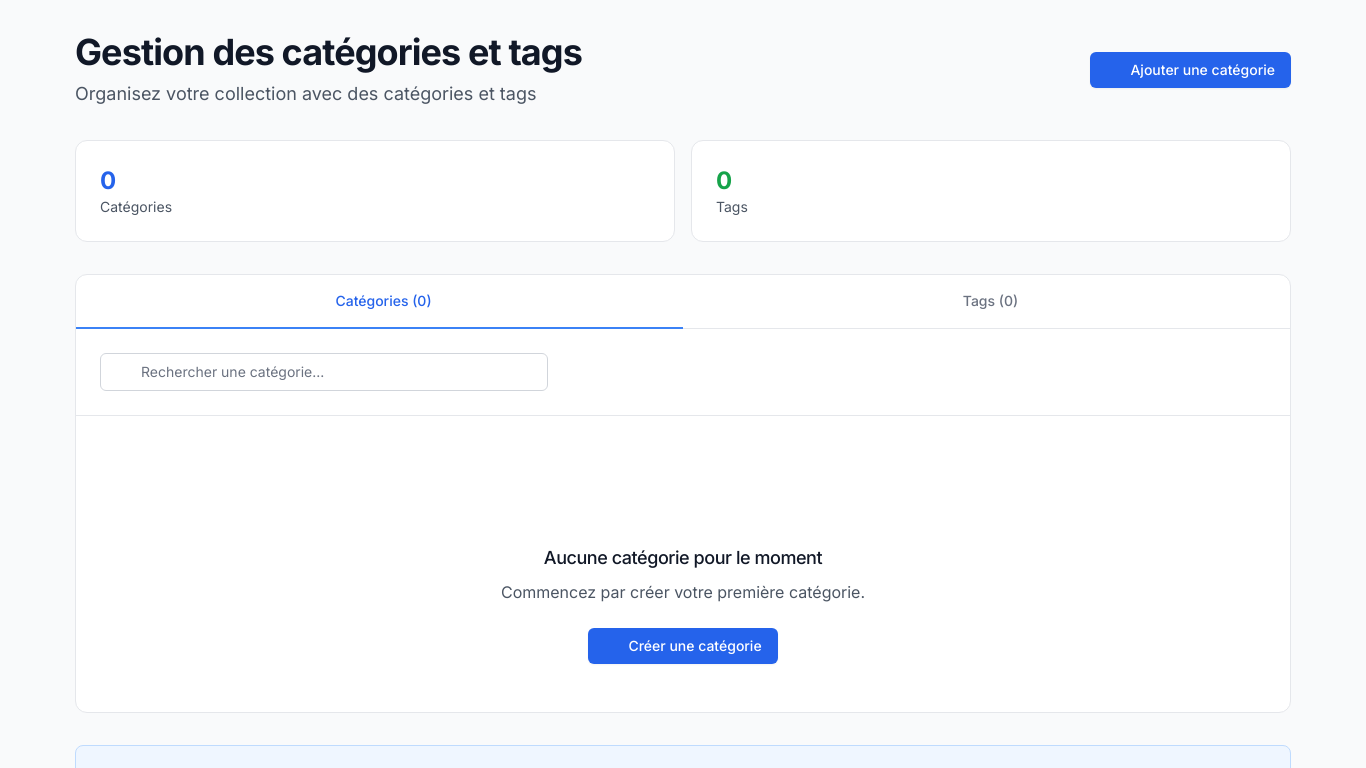
it: AdminCategoriesPage › États de chargement et erreurs › affiche le message d'absence d'éléments dans l'onglet tags
The image size is (1366, 768).
Click the button with test id "tags-tab".
click(986, 302)  # box 683,275 -> 1290,329
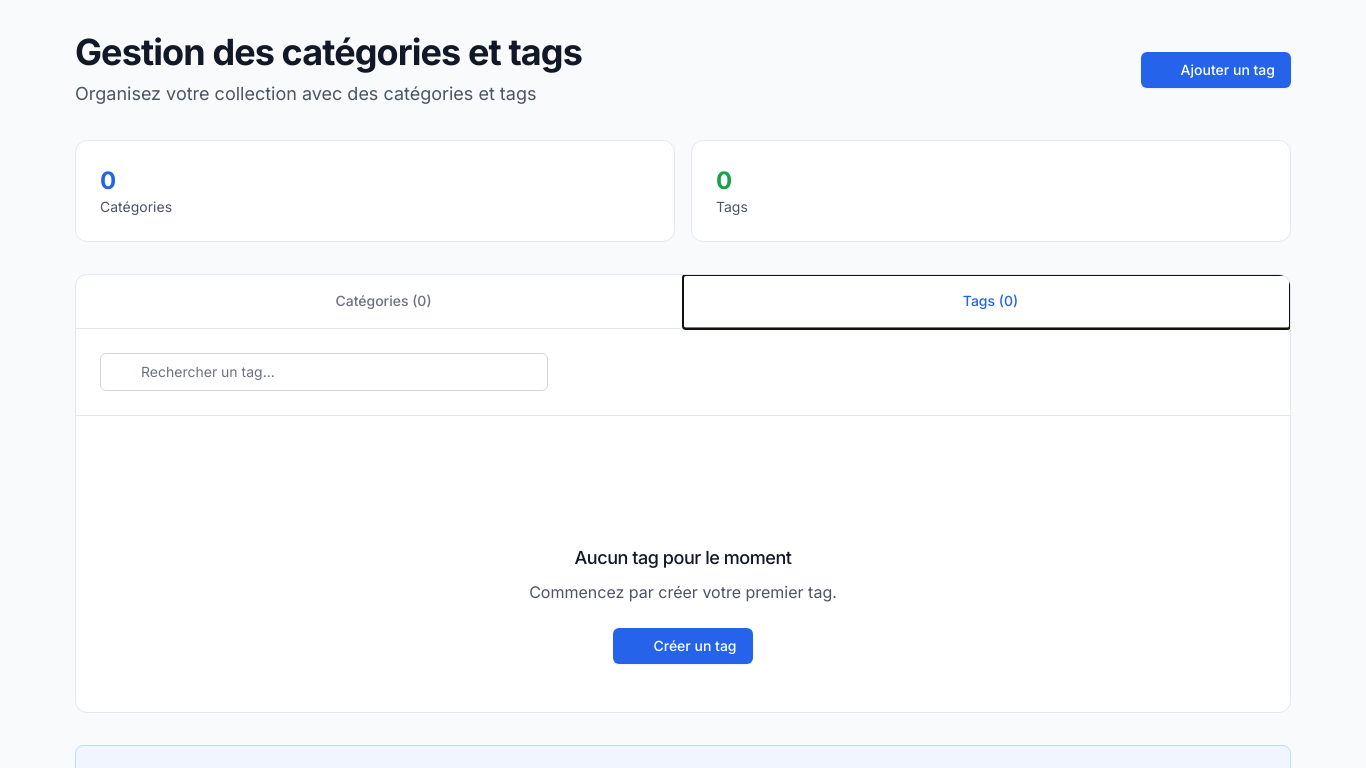
Result: the heading "Aucun tag pour le moment" is shown at 574,547 -> 791,568
Result: the text "Commencez par créer votre premier tag." is shown at 529,582 -> 837,602
